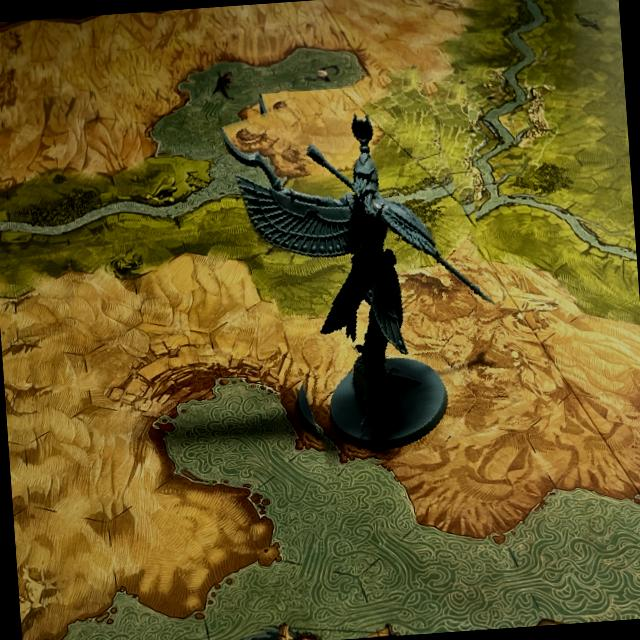isis: (237, 68, 512, 473)
